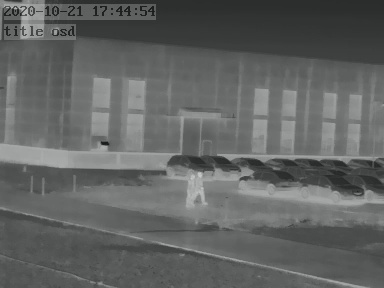person: (185, 175, 196, 207), (195, 172, 205, 203)
vehicle: (302, 173, 364, 202), (237, 170, 302, 194), (162, 153, 216, 178), (205, 152, 243, 177), (353, 173, 384, 200), (232, 154, 269, 171), (262, 155, 296, 170), (347, 156, 381, 170), (317, 156, 347, 170), (296, 156, 325, 169)
